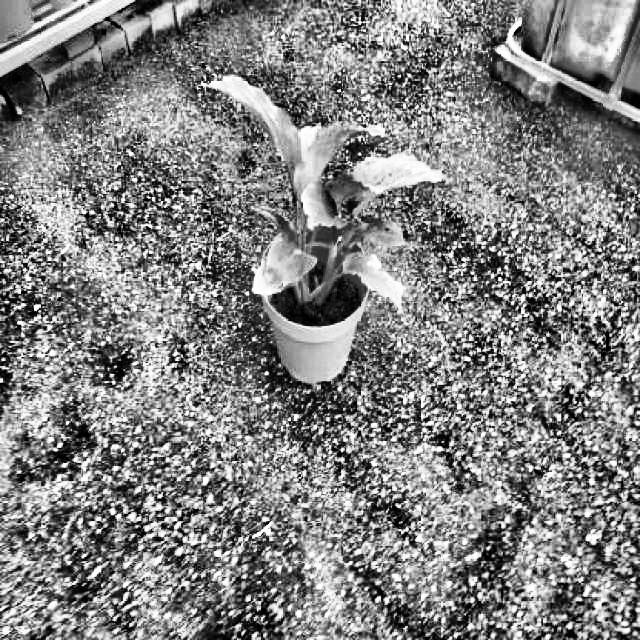plants: (202, 71, 444, 318)
